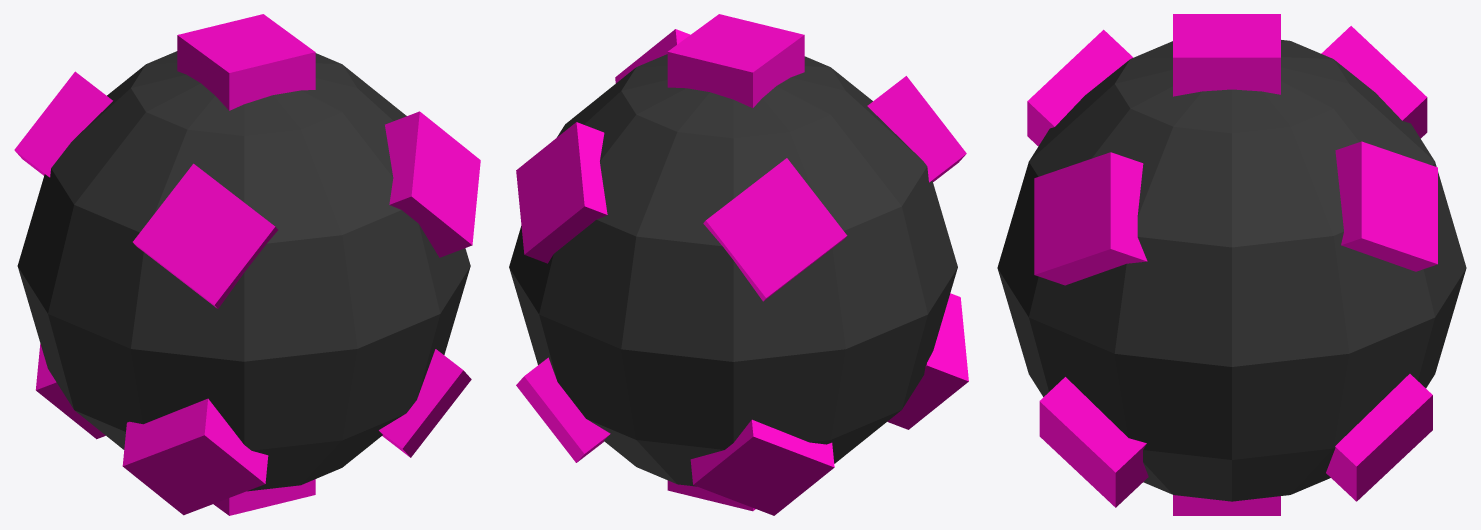
File: Neon Survival Bomb 3.FBX
The picture shows the model from 3 angles, left to right: view 1: azimuth 30°, elevation 25°; view 2: azimuth 150°, elevation 25°; view 3: azimuth 270°, elevation 25°; orthographic projection. The views are drawn at different scales.
Parts seen in each view (by area): view 1: Sphere001, Box008, Box010, Box003, Box001, Box009, Box006, Box002, Box011; view 2: Sphere001, Box009, Box001, Box005, Box011, Box008, Box010, Box007, Box003, Box002; view 3: Sphere001, Box003, Box005, Box001, Box006, Box007, Box008, Box009, Box002.
Boxes of the visible parts, x1,y1,x2,y2 form: Sphere001: [17, 51, 470, 491]; Box008: [133, 163, 277, 308]; Box010: [122, 398, 268, 515]; Box003: [385, 111, 480, 257]; Box001: [177, 14, 315, 110]; Box009: [14, 71, 112, 177]; Box006: [379, 349, 471, 457]; Box002: [213, 479, 315, 515]; Box011: [35, 344, 105, 439]; Sphere001: [509, 54, 957, 486]; Box009: [703, 158, 847, 301]; Box001: [667, 14, 804, 108]; Box005: [516, 122, 607, 263]; Box011: [690, 419, 834, 515]; Box008: [867, 76, 966, 182]; Box010: [887, 293, 968, 429]; Box007: [516, 357, 610, 462]; Box003: [615, 29, 690, 83]; Box002: [667, 480, 755, 511]; Sphere001: [997, 40, 1466, 501]; Box003: [1034, 152, 1147, 285]; Box005: [1335, 141, 1437, 271]; Box001: [1173, 14, 1280, 96]; Box006: [1039, 377, 1148, 507]; Box007: [1326, 374, 1432, 501]; Box008: [1027, 29, 1133, 146]; Box009: [1321, 26, 1427, 138]; Box002: [1173, 495, 1280, 515].
Bounding box in the file's own units: 7.21 × 7.78 × 7.21.
